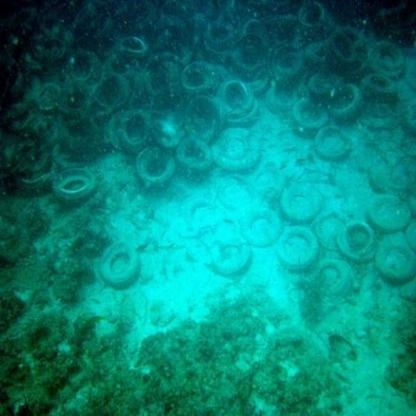tire: (47, 160, 102, 212), (278, 176, 332, 226), (134, 147, 187, 193), (212, 78, 257, 124), (106, 242, 140, 296)
